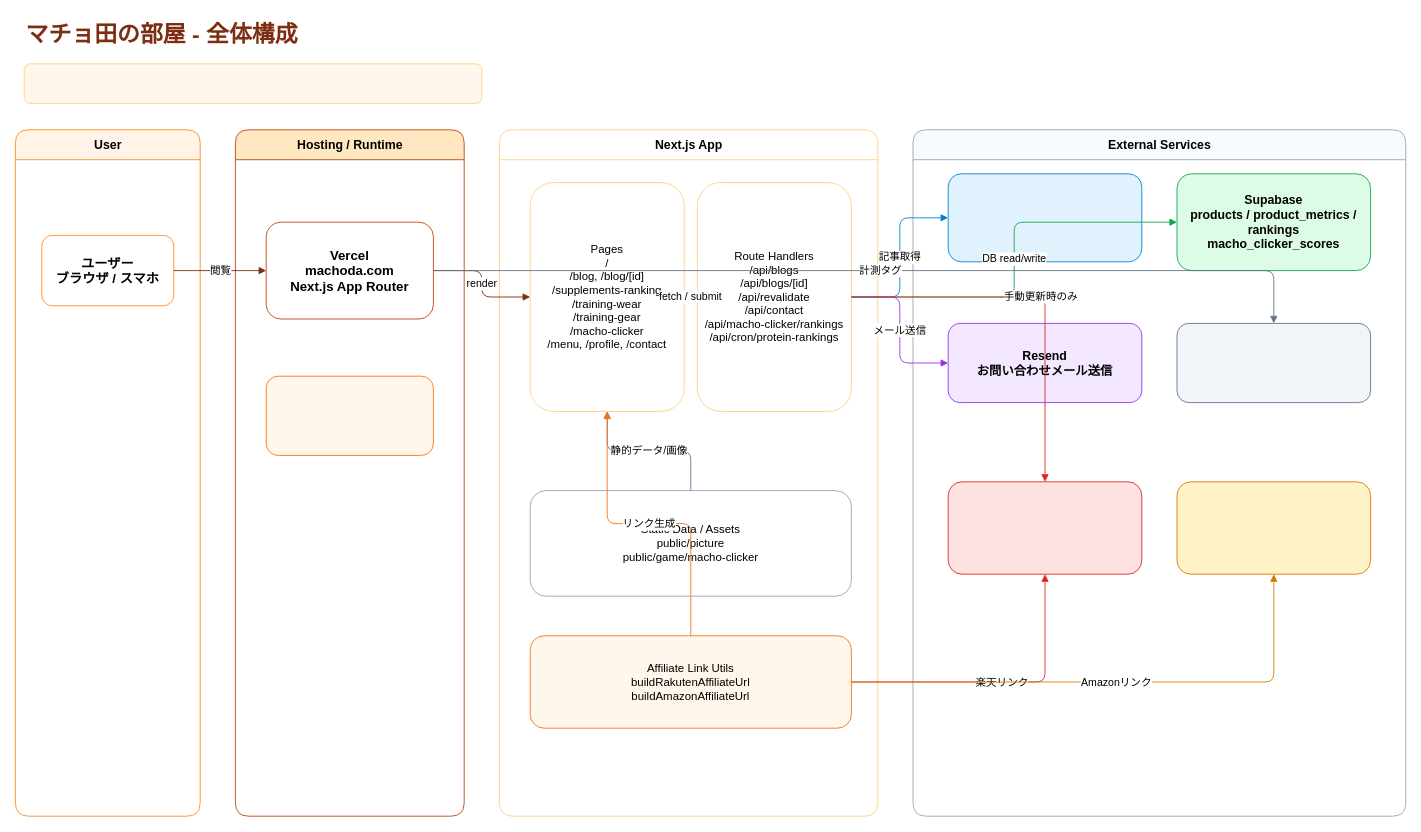
This 1421x832 diagram has some shape labels left out. The shapes that lost their labels are listed below. From the top down, each one's box as (x1, y1, x2, y2) in pixels, then its label:
(23, 63, 482, 103): 左から右へ、閲覧 → Vercel/Next.js → アプリ内部 → 外部サービス の流れで整理
(947, 173, 1142, 262): microCMS blogs API 記事一覧 / 詳細 / Webhook
(1176, 323, 1371, 403): Google Analytics / GTM アクセス解析タグ
(265, 375, 433, 455): Vercel Cron 現在は停止 vercel.json = {}
(947, 481, 1142, 574): 楽天API / 楽天検索 商品情報取得 楽天アフィリエイト
(1176, 481, 1371, 574): Amazon アソシエイトリンク 検索/商品ページへ送客
